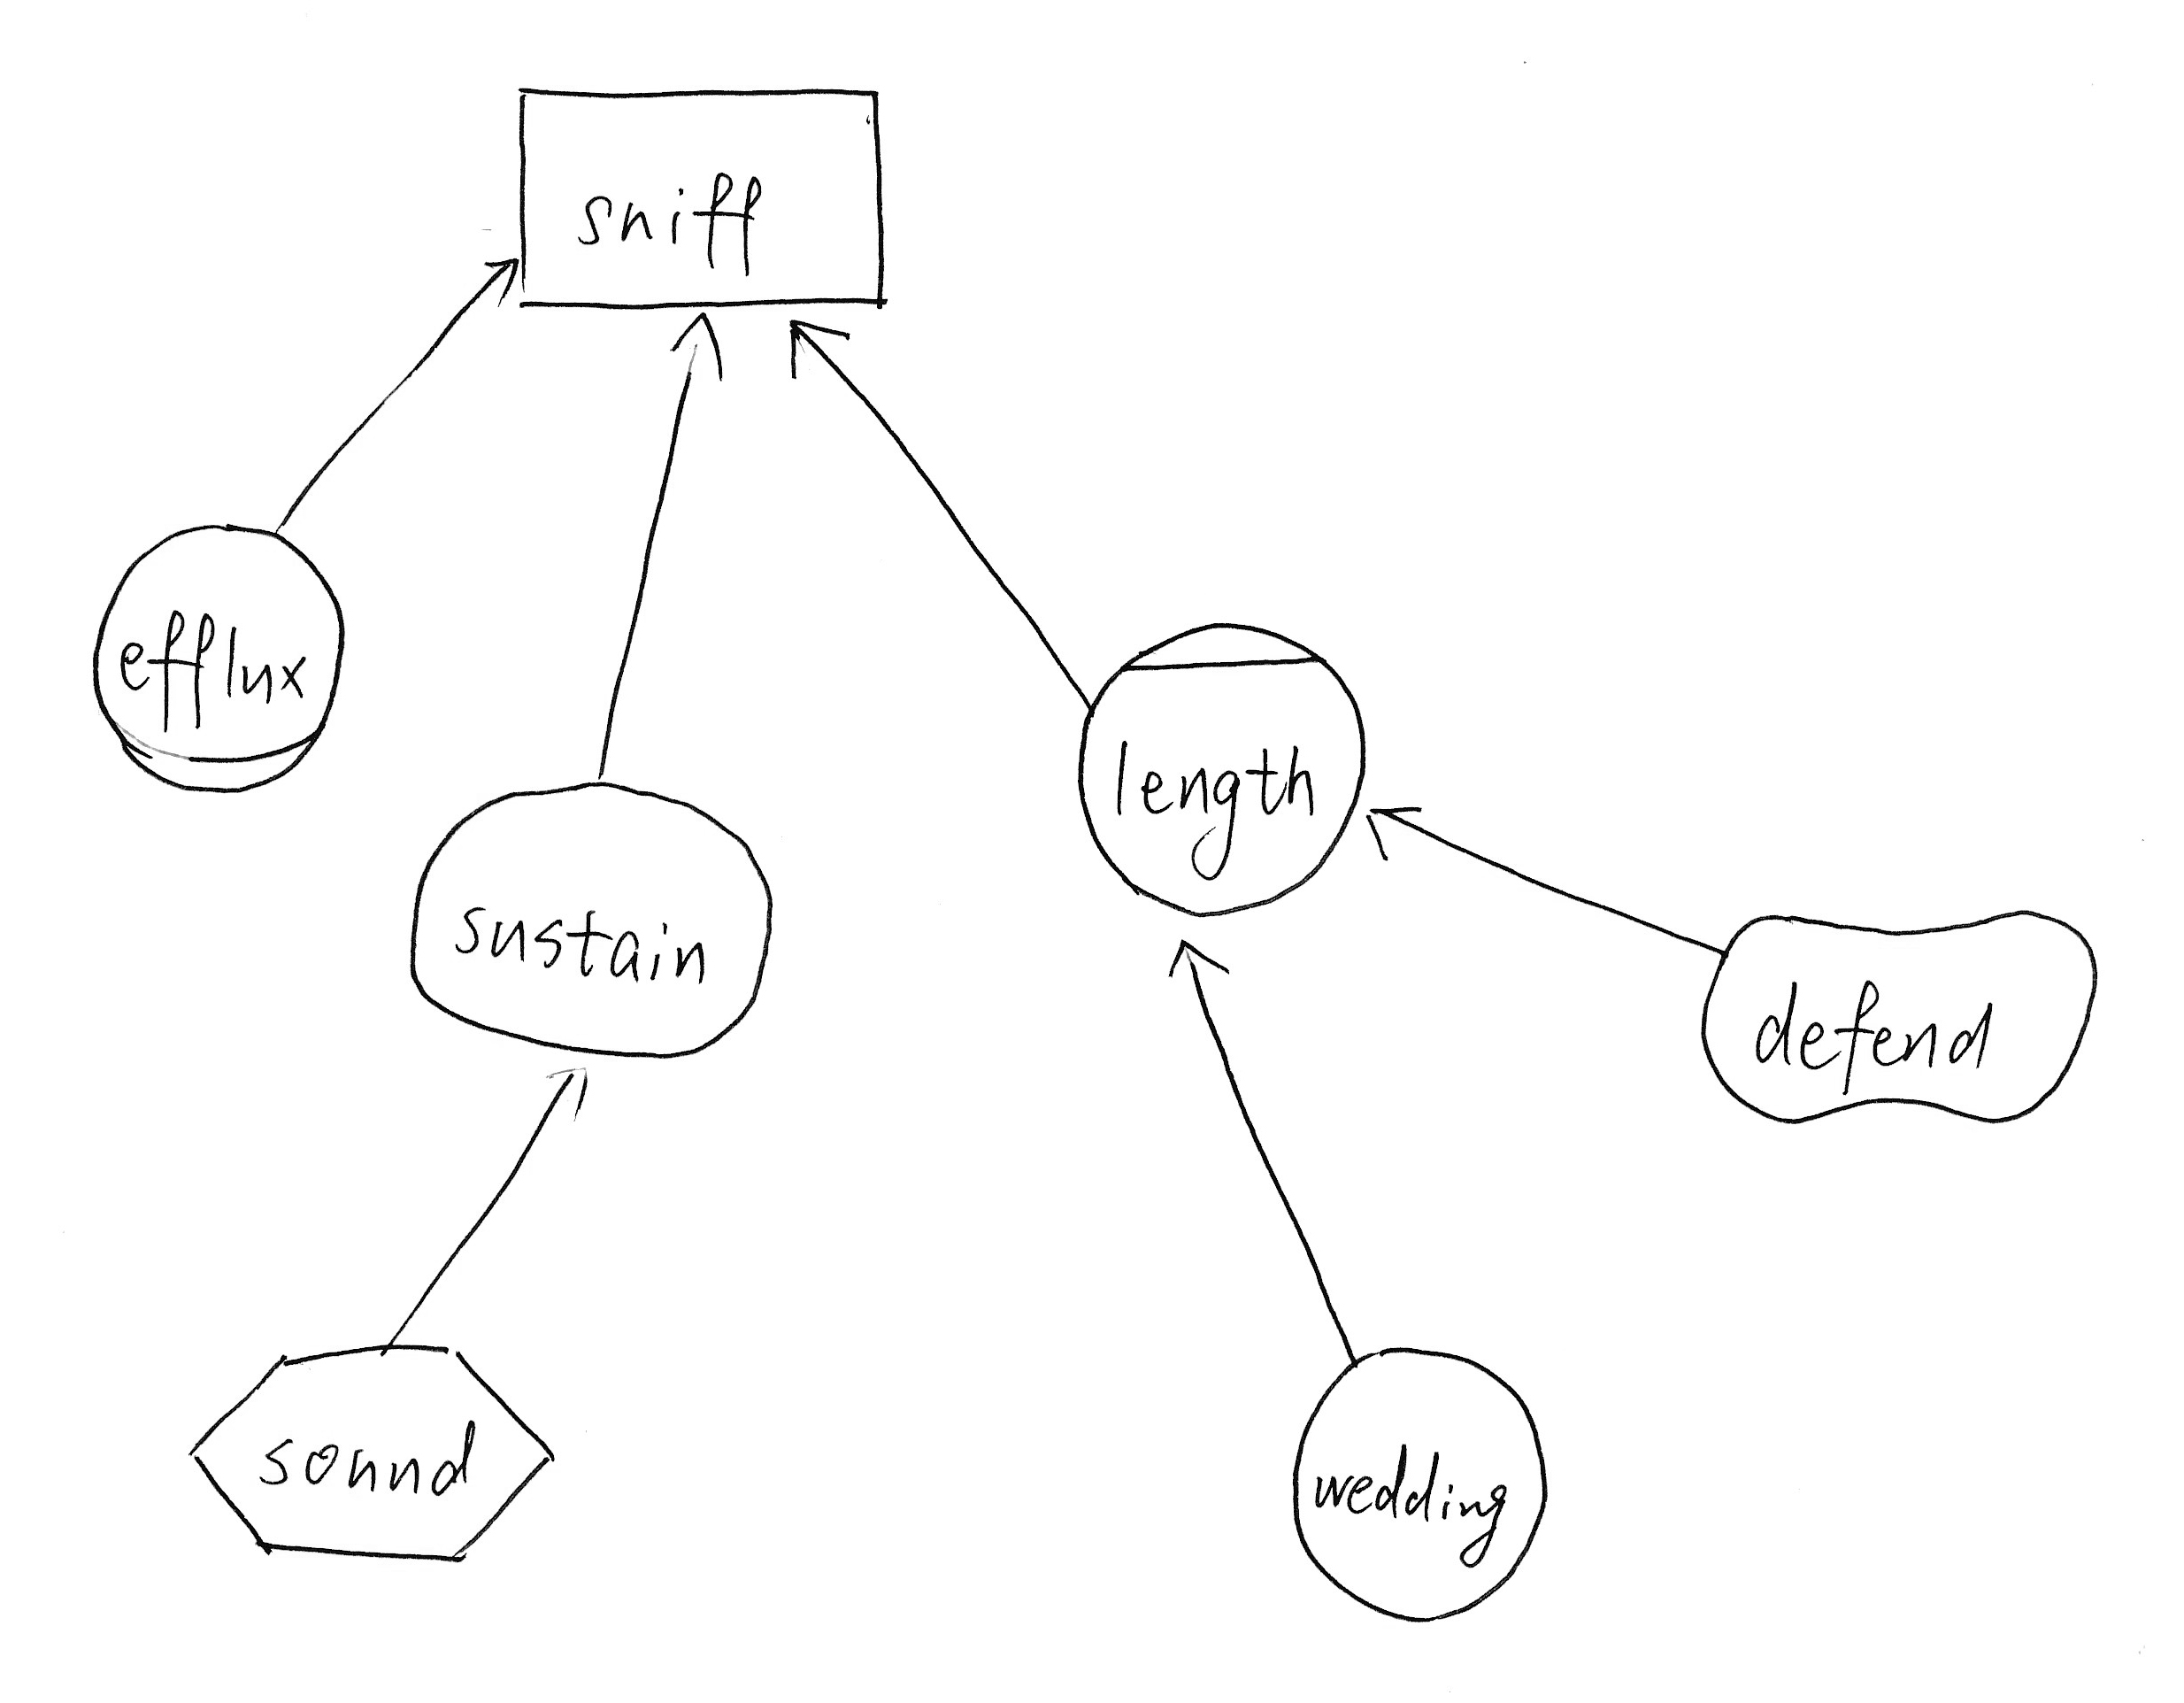actor: (1276, 1336, 1556, 1639)
agent: (1062, 605, 1383, 930)
arrow: (776, 309, 865, 392), (1145, 924, 1243, 995), (1360, 791, 1436, 871), (665, 303, 732, 390), (532, 1057, 603, 1121), (472, 236, 525, 319)
goal: (390, 770, 785, 1079)
quality: (1677, 891, 2113, 1151)
resource: (498, 67, 911, 325)
role: (69, 506, 362, 805)
task: (168, 1325, 574, 1588)
